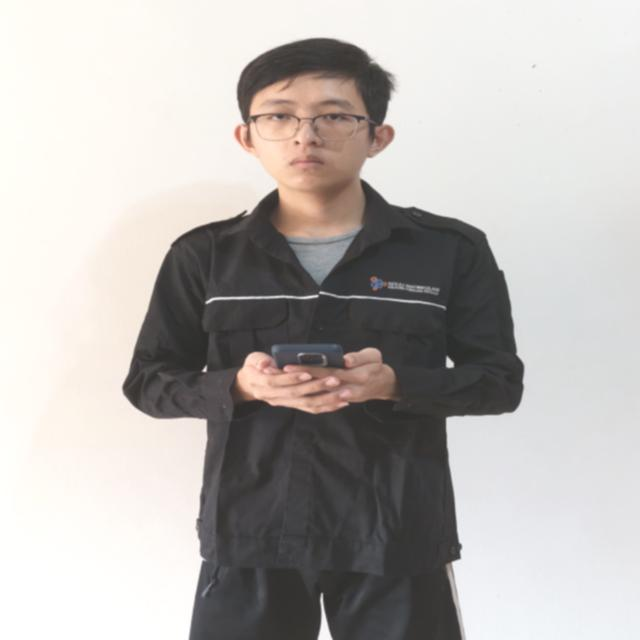person_with_labcoat: (123, 38, 523, 640)
